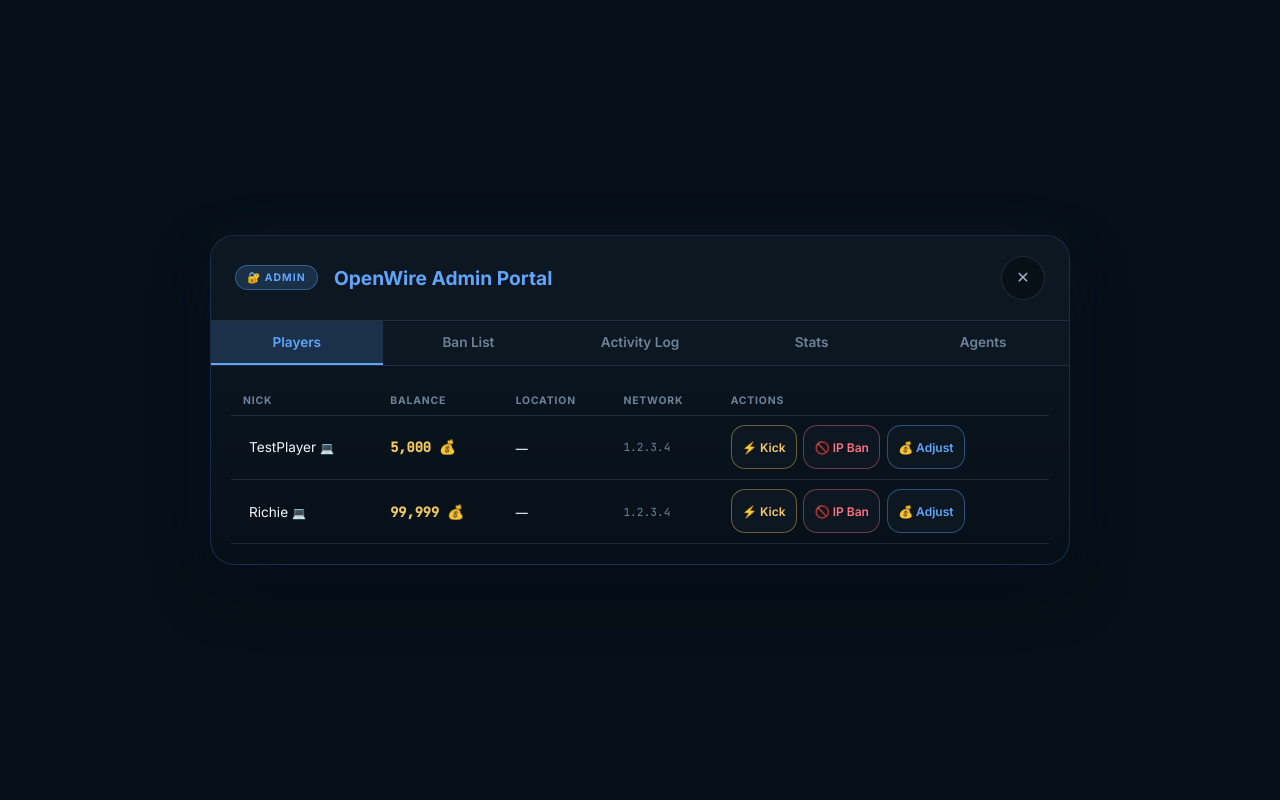
Test: AdminPortal — Stats tab: Dashboard › shows Richest Player
The image size is (1280, 800).
Click the button "Stats". click: (812, 343)
box: [726,321,897,365]
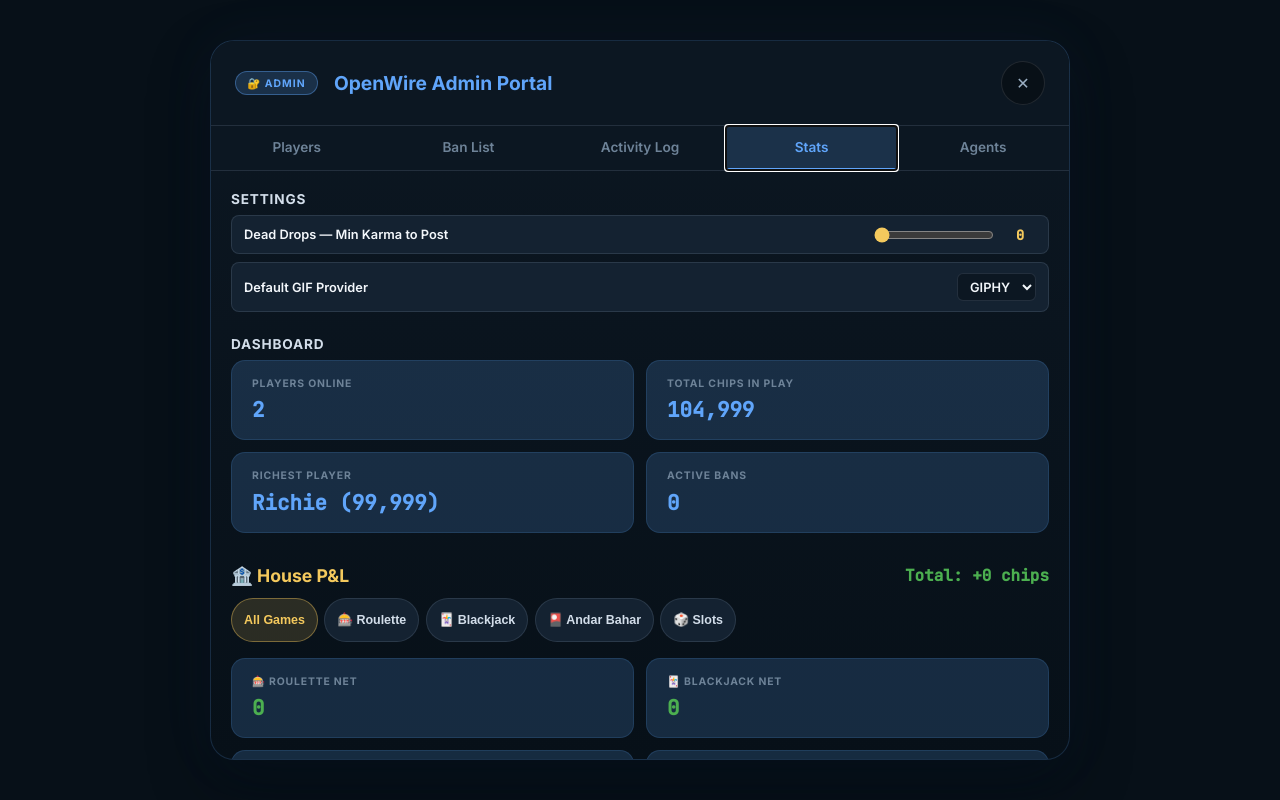
Check: the text "Richie (99,999)" is shown, box [252,489,439,516]
